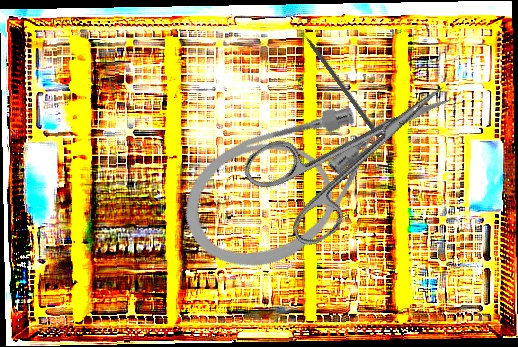Cannula: (165, 78, 430, 291)
Hook Surgical: (295, 22, 382, 138)
Iris Scissors: (237, 49, 479, 257)
